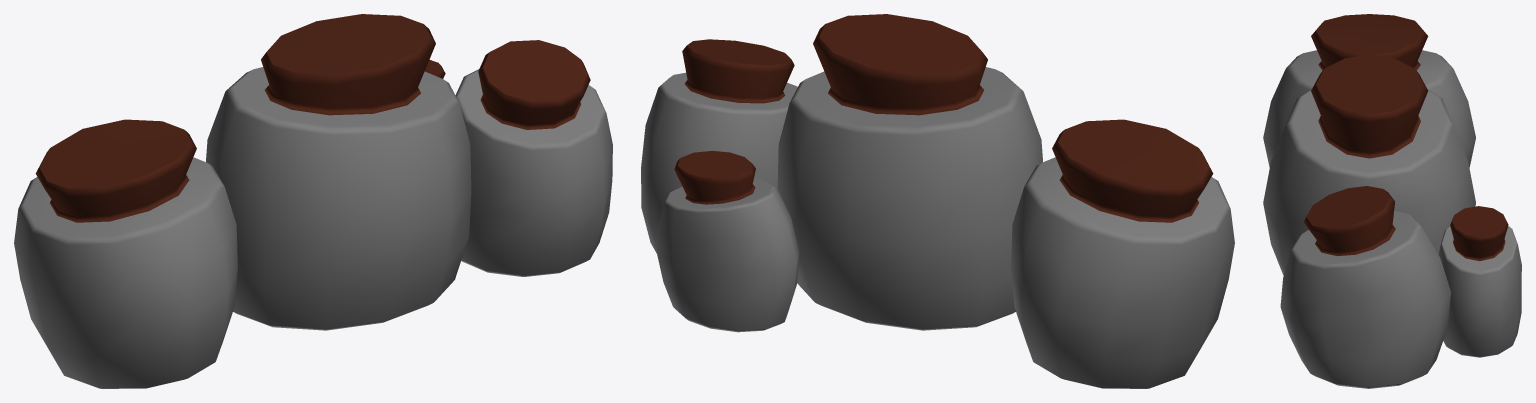
File: cask_01.fbx
3 views of the same model, side by side, from view 1: azimuth 30°, elevation 25°; view 2: azimuth 150°, elevation 25°; view 3: azimuth 270°, elevation 25° (orthographic). The views are drawn at different scales.
Visible parts, largest first — view 1: cask_01; view 2: cask_01; view 3: cask_01.
Part boxes in pixels (<box>): cask_01: <box>14,14,612,388</box>; cask_01: <box>641,14,1234,388</box>; cask_01: <box>1263,14,1521,388</box>.
Bounding box in the file's own units: 195 × 88.08 × 91.3.
